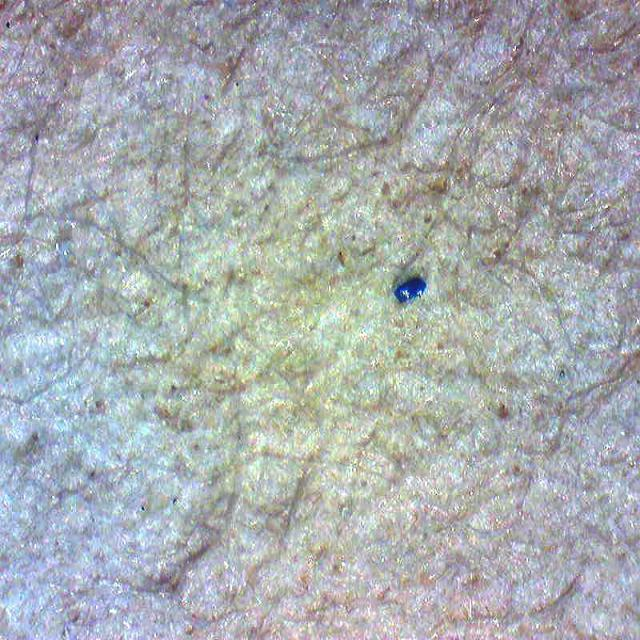microplastic: (391, 275, 430, 304)
